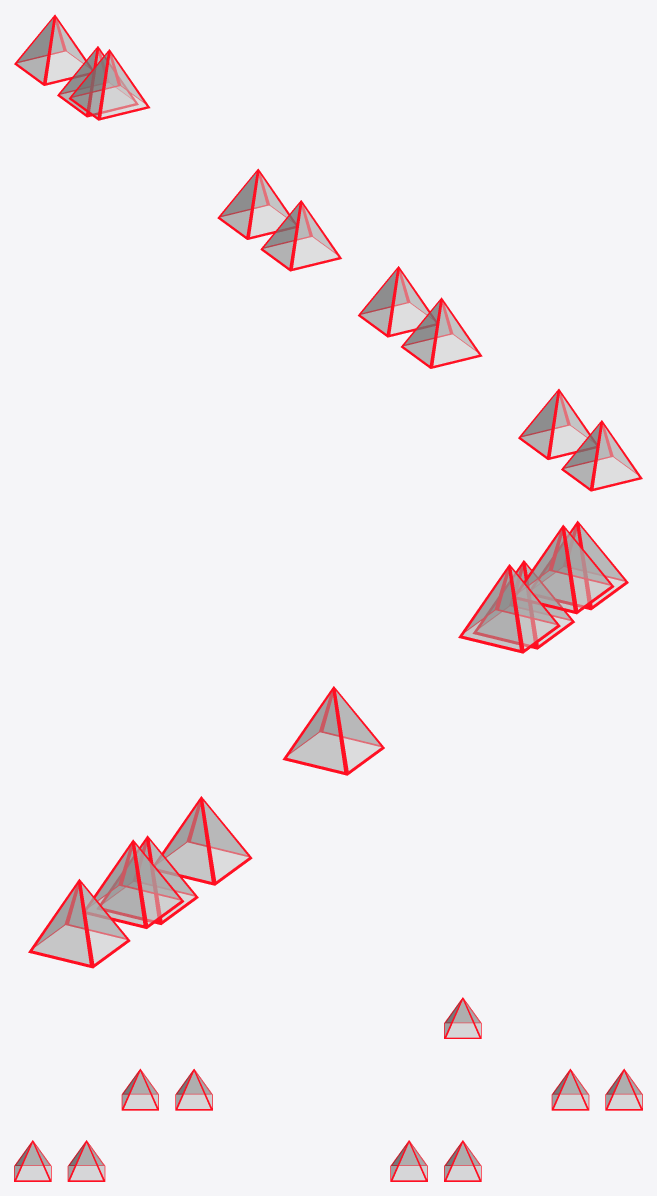
The model's file is (5)E Spike.fbx.
3 renders of one model, top to bottom at view 1: azimuth 30°, elevation 25°; view 2: azimuth 150°, elevation 25°; view 3: azimuth 270°, elevation 25°, orthographic. The views are drawn at different scales.
Visible parts, largest first — view 1: Spike..008, Spike..016, Spike..003, Spike..001, Spike..002, Spike..004, Spike..009, Spike..011, Spike..010; view 2: Spike..009, Spike..011, Spike..016, Spike..008, Spike..010, Spike..003, Spike..004, Spike..001, Spike..002; view 3: Spike..010, Spike..008, Spike..011, Spike..009, Spike..002, Spike..001, Spike..003, Spike..004, Spike..016.
Boxes of the visible parts, left/top/right/bottom form: Spike..008: left=401, top=297, right=482, bottom=368; Spike..016: left=68, top=49, right=150, bottom=120; Spike..003: left=260, top=200, right=341, bottom=271; Spike..001: left=561, top=420, right=642, bottom=491; Spike..002: left=518, top=389, right=596, bottom=459; Spike..004: left=217, top=168, right=295, bottom=239; Spike..009: left=358, top=266, right=435, bottom=337; Spike..011: left=14, top=14, right=91, bottom=85; Spike..010: left=57, top=46, right=138, bottom=117; Spike..009: left=458, top=564, right=560, bottom=653; Spike..011: left=28, top=879, right=130, bottom=968; Spike..016: left=282, top=686, right=384, bottom=775; Spike..008: left=516, top=524, right=614, bottom=614; Spike..010: left=86, top=839, right=184, bottom=928; Spike..003: left=154, top=796, right=252, bottom=885; Spike..004: left=100, top=835, right=198, bottom=924; Spike..001: left=539, top=520, right=628, bottom=610; Spike..002: left=472, top=560, right=574, bottom=649; Spike..010: left=551, top=1068, right=589, bottom=1110; Spike..008: left=121, top=1068, right=158, bottom=1110; Spike..011: left=605, top=1068, right=642, bottom=1110; Spike..009: left=175, top=1069, right=212, bottom=1110; Spike..002: left=67, top=1140, right=105, bottom=1181; Spike..001: left=14, top=1140, right=51, bottom=1181; Spike..003: left=390, top=1140, right=427, bottom=1181; Spike..004: left=444, top=1140, right=481, bottom=1181; Spike..016: left=444, top=997, right=481, bottom=1038.
Bounding box in the file's own units: 540 × 540 × 2340.
